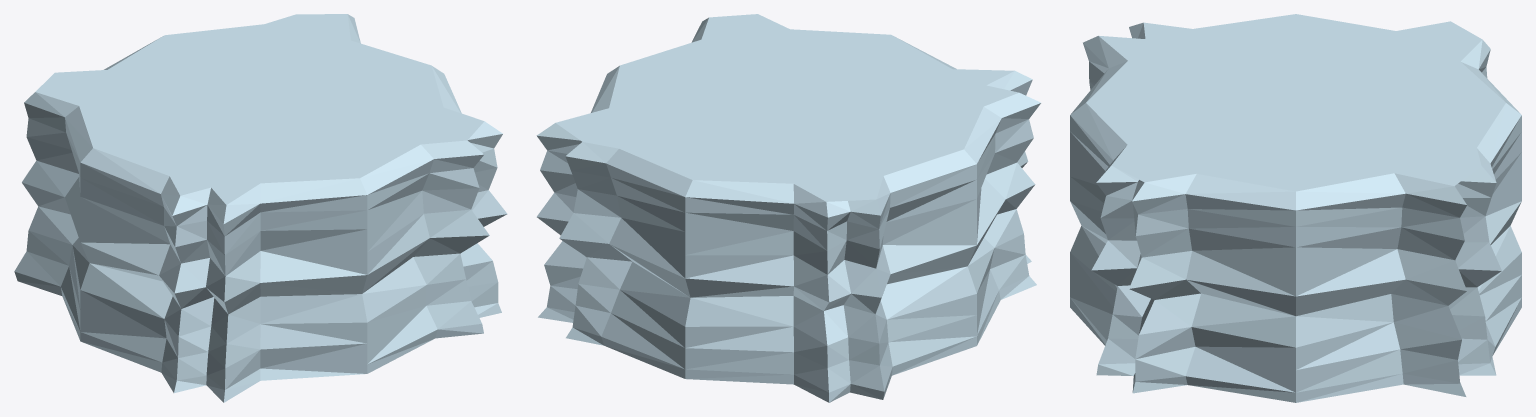
File: serac-1.glb
3 views of the same model, side by side, from view 1: azimuth 30°, elevation 25°; view 2: azimuth 150°, elevation 25°; view 3: azimuth 270°, elevation 25° (orthographic). The views are drawn at different scales.
Parts seen in each view (by area): view 1: serac-1001; view 2: serac-1001; view 3: serac-1001.
Part boxes in pixels (x1=…): serac-1001: x1=14, y1=14, x2=507, y2=402; serac-1001: x1=536, y1=14, x2=1040, y2=402; serac-1001: x1=1070, y1=14, x2=1521, y2=402.
Size of the model in its own units: 2 by 1 by 2.
